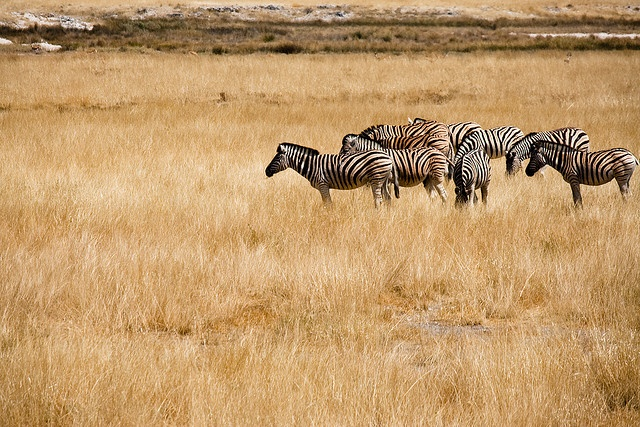zebra: (265, 141, 398, 208), (524, 140, 640, 210), (337, 134, 446, 203), (504, 127, 588, 181), (453, 150, 491, 210), (454, 127, 526, 158)
